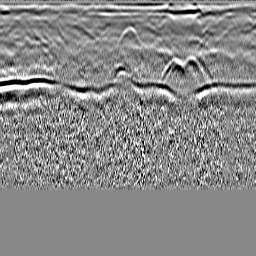cavity: (117, 25, 139, 43)
